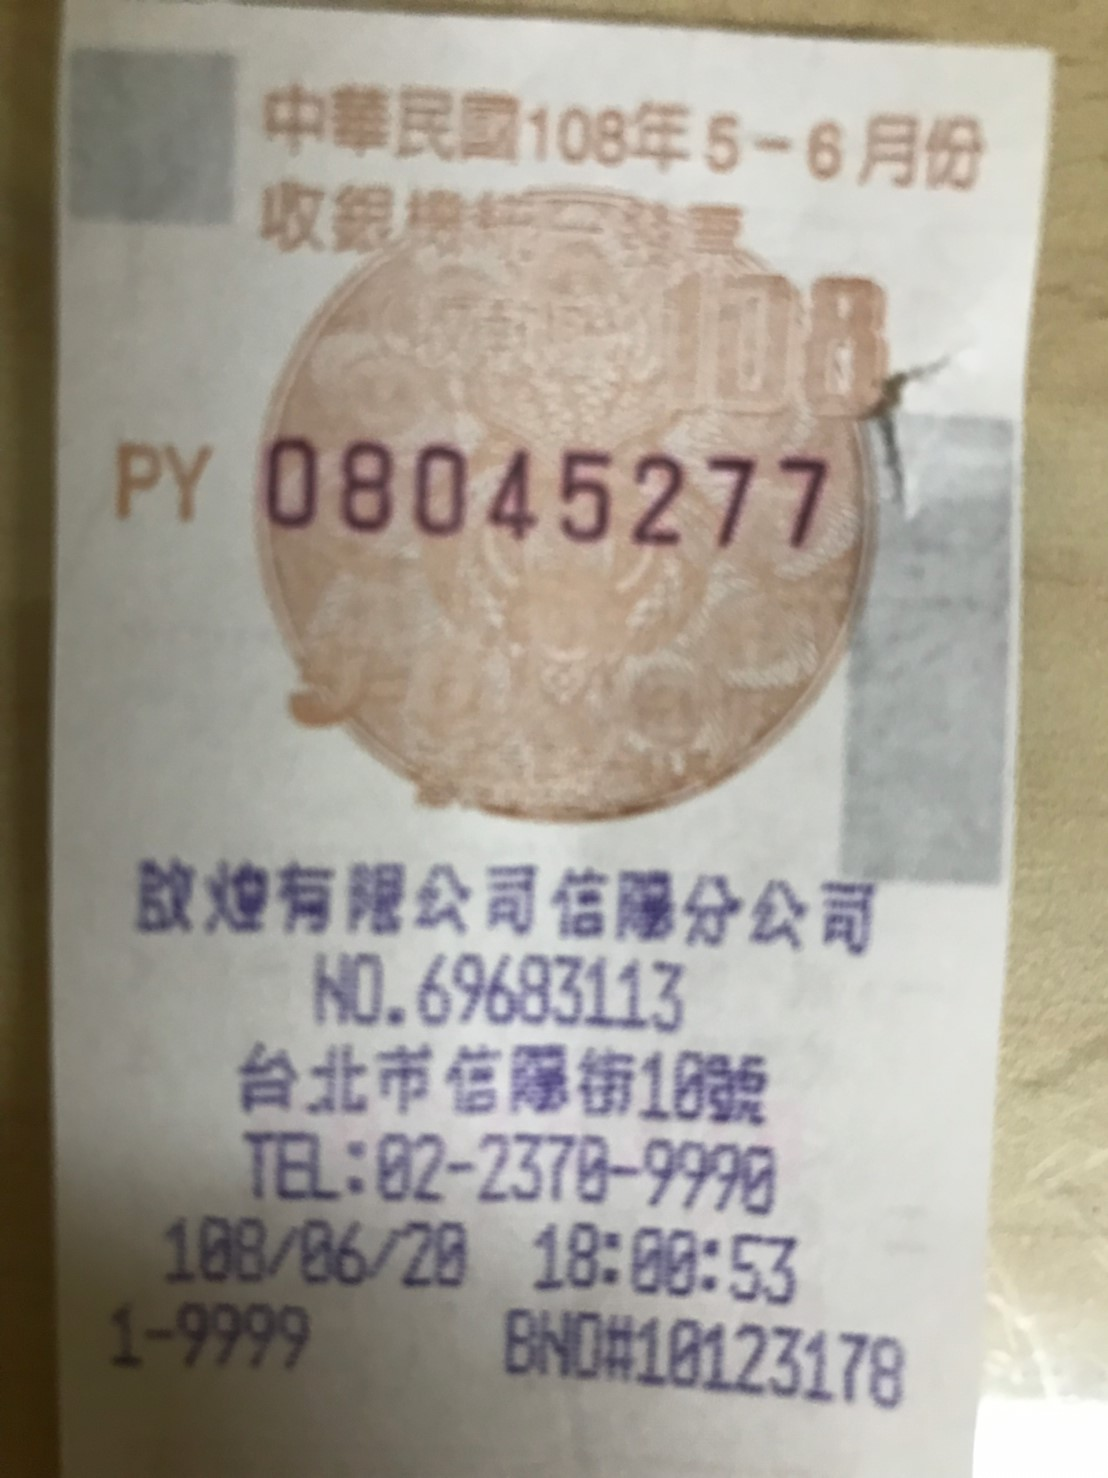Date_Old: (527, 97, 992, 201)
Number_Old: (254, 422, 841, 550)
